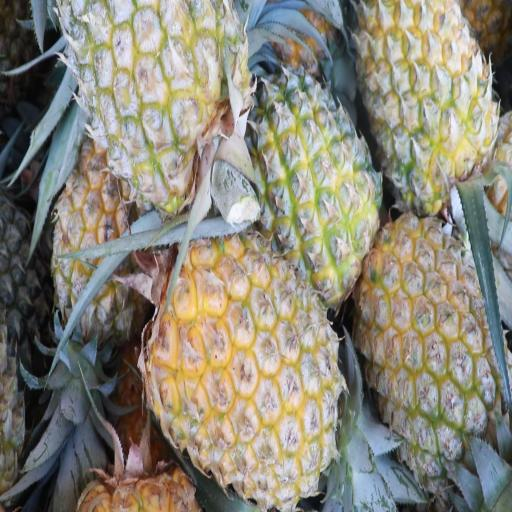------------------------------: (66, 0, 253, 216), (55, 156, 140, 345)
Pineapple - v8 v1: (159, 241, 335, 483), (363, 224, 500, 464), (252, 79, 377, 296), (360, 0, 494, 199)
